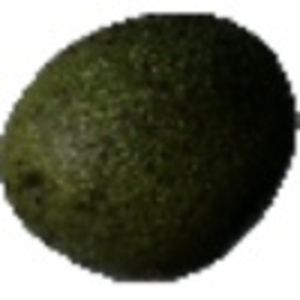abacate: (3, 8, 296, 283)
